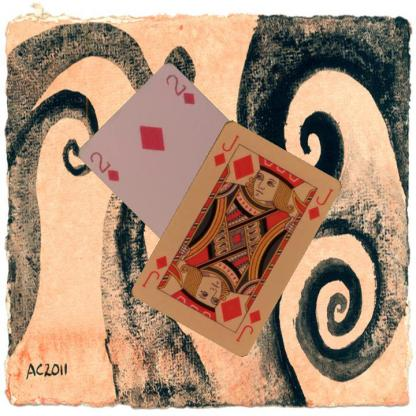2d: (88, 148, 122, 182)
Jd: (210, 131, 240, 168), (233, 306, 262, 343)
